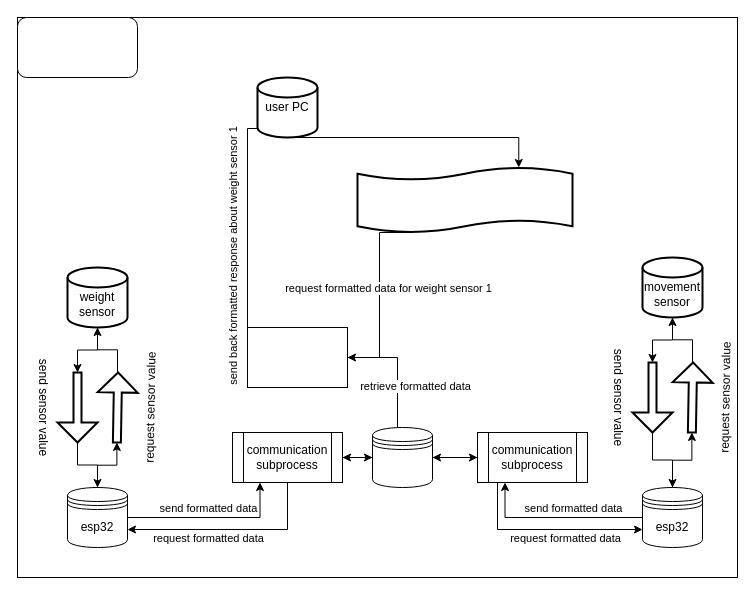
Image size: 755x595. Some labels were removed from this diagram. The box of each missing label's shape, as (x1, y1, x2, y2) in pixels:
GET: {API-BASE-URL}/sensor/weight/1: (356, 166, 573, 233)
Project communication architecture: (16, 16, 138, 78)
raspberry pi: (372, 426, 432, 488)
restless API: (246, 326, 348, 388)
